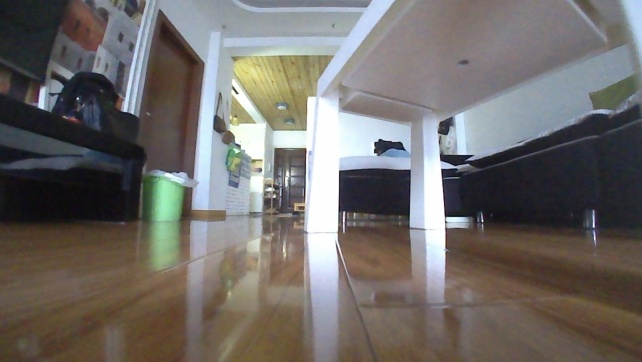TV_stand1: (0, 91, 149, 225)
door_anno: (129, 6, 205, 220), (271, 145, 307, 214)
sofa: (334, 90, 641, 234)
